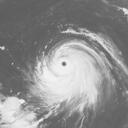cyclone: (30, 38, 105, 113)
